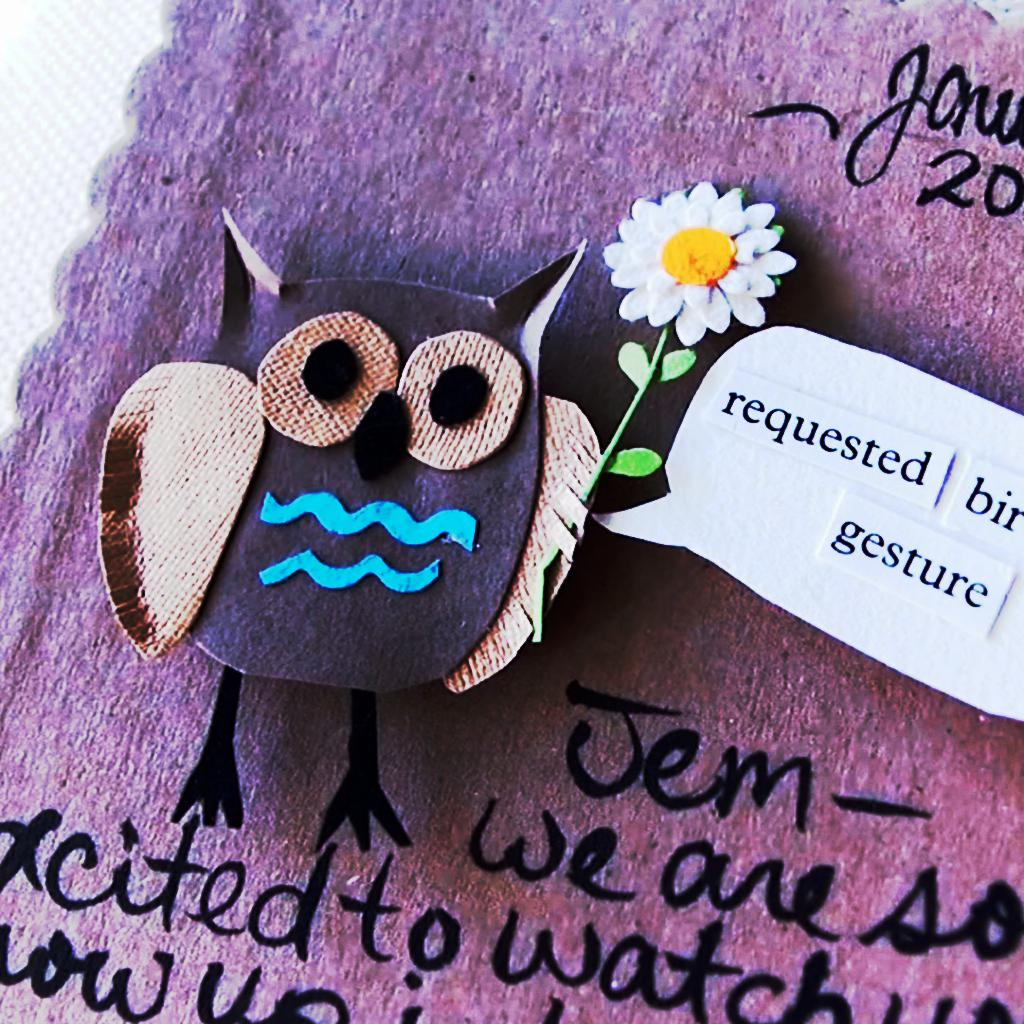Owl: (93, 202, 610, 854)
